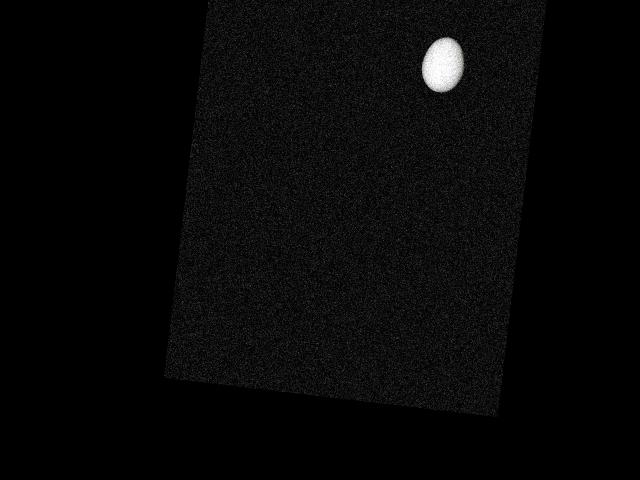egg: (419, 35, 466, 95)
